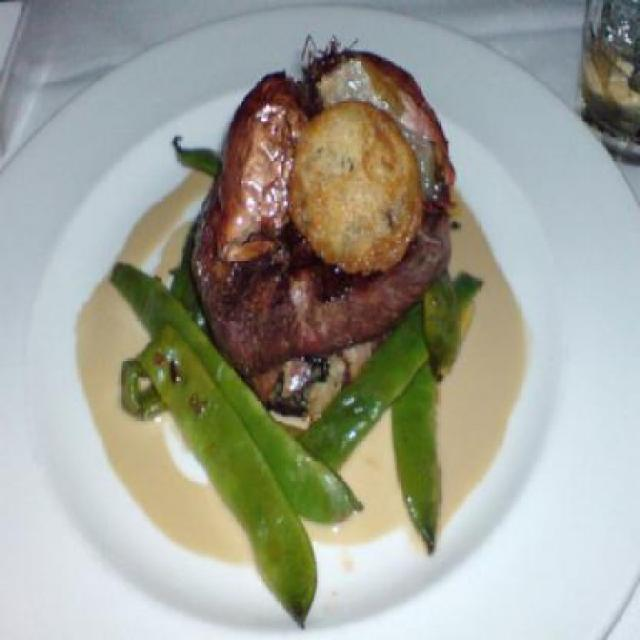Steak: (170, 44, 486, 382)
